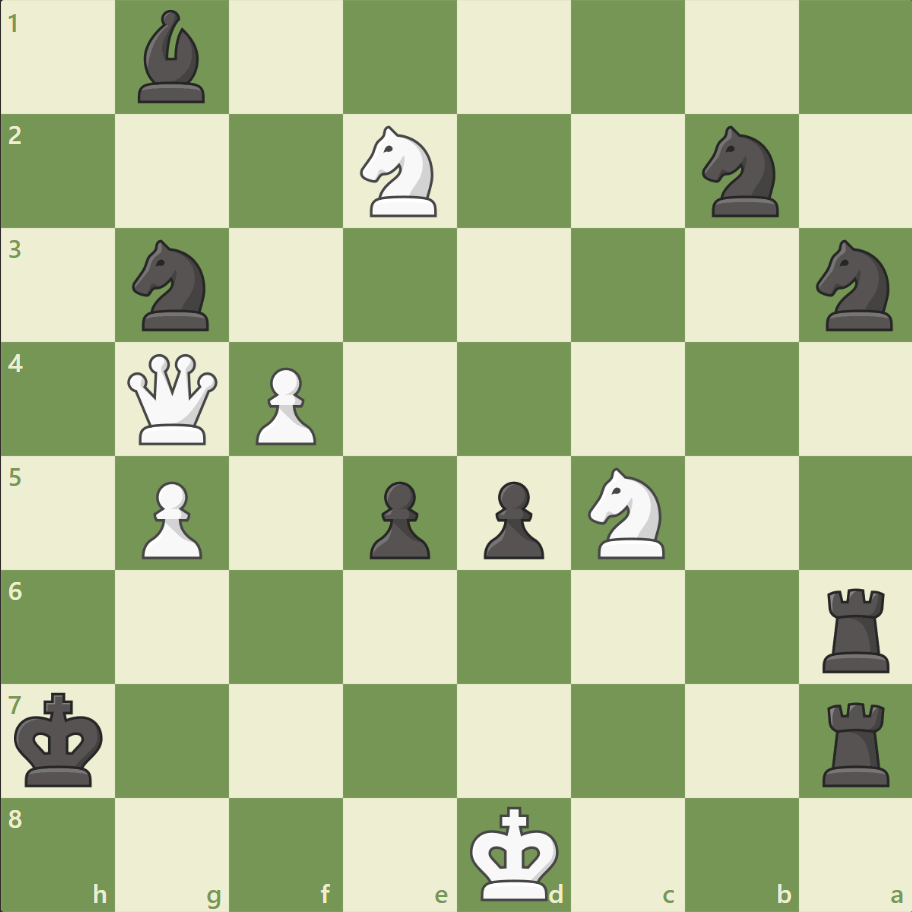K: (465, 798, 565, 906)
N: (351, 121, 449, 223), (579, 461, 676, 564)
P: (133, 473, 208, 564), (247, 359, 322, 450)
Q: (124, 349, 223, 449)
b: (131, 6, 215, 109)
k: (11, 685, 111, 793)
n: (124, 234, 222, 337), (806, 234, 903, 337), (692, 121, 789, 223)
p: (474, 473, 549, 564), (361, 473, 435, 564)
r: (814, 693, 897, 790), (814, 579, 897, 676)
